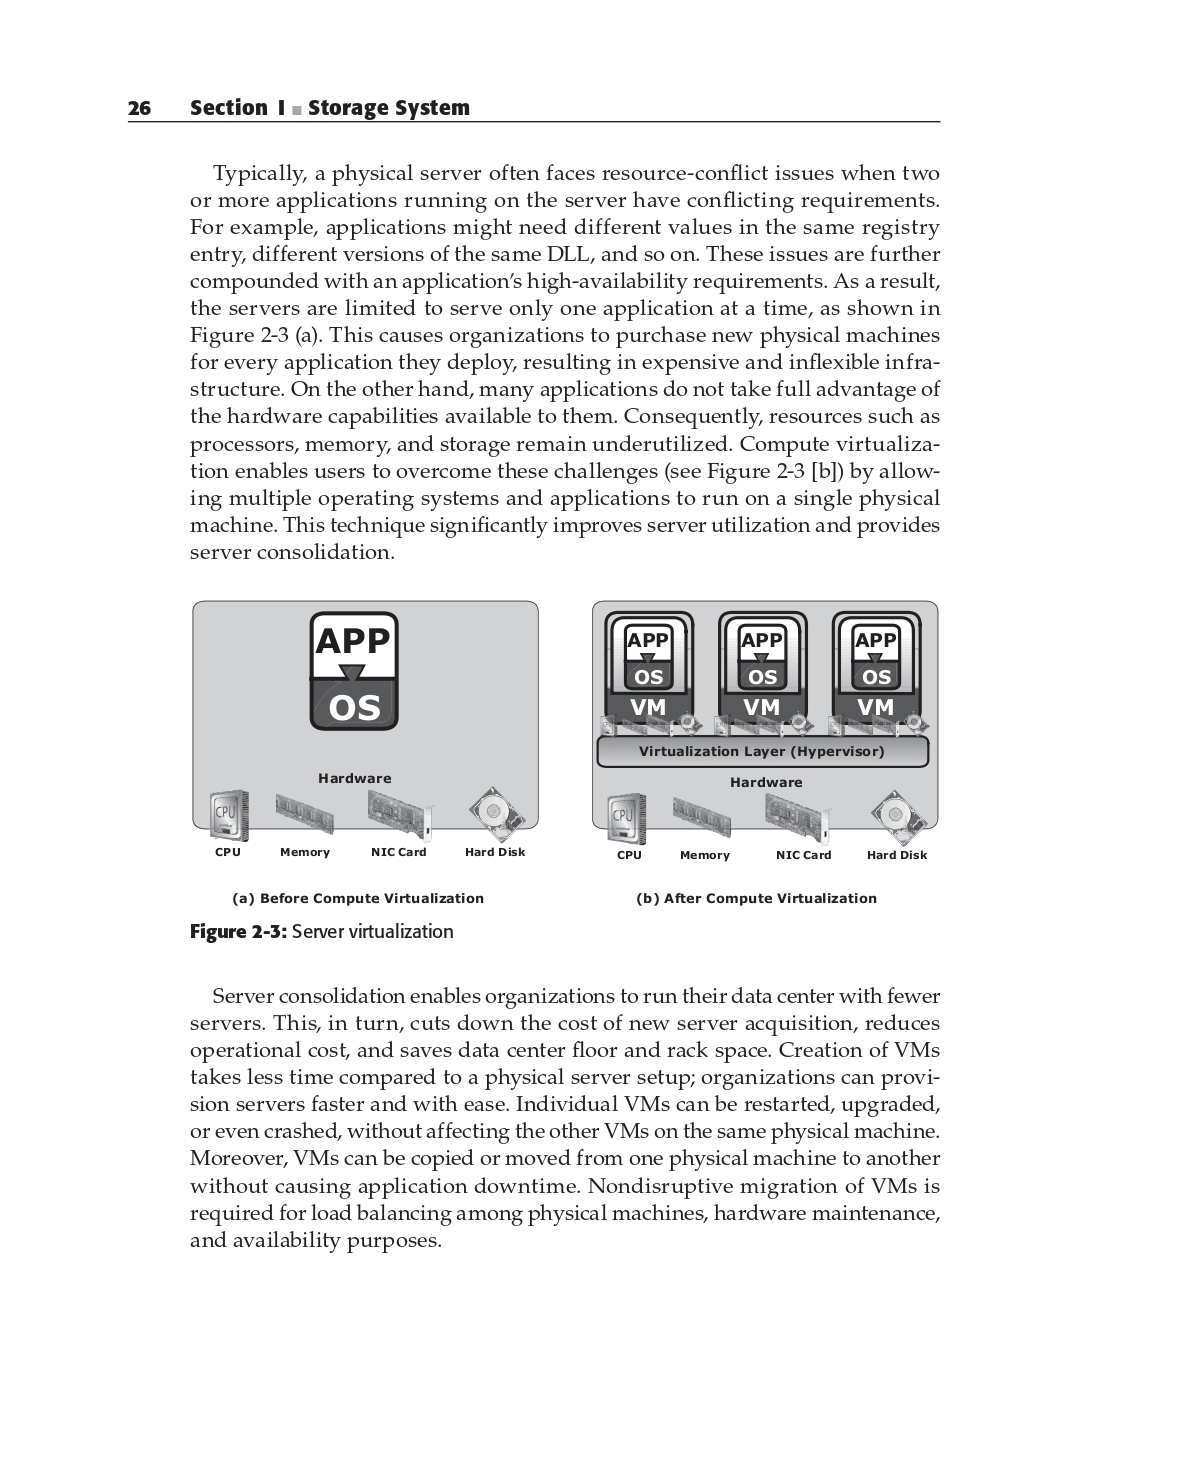Image: (195, 596, 543, 853), (601, 601, 937, 847)
Paragraph: (181, 152, 943, 564), (178, 984, 955, 1250), (176, 903, 467, 955), (122, 91, 491, 116)
